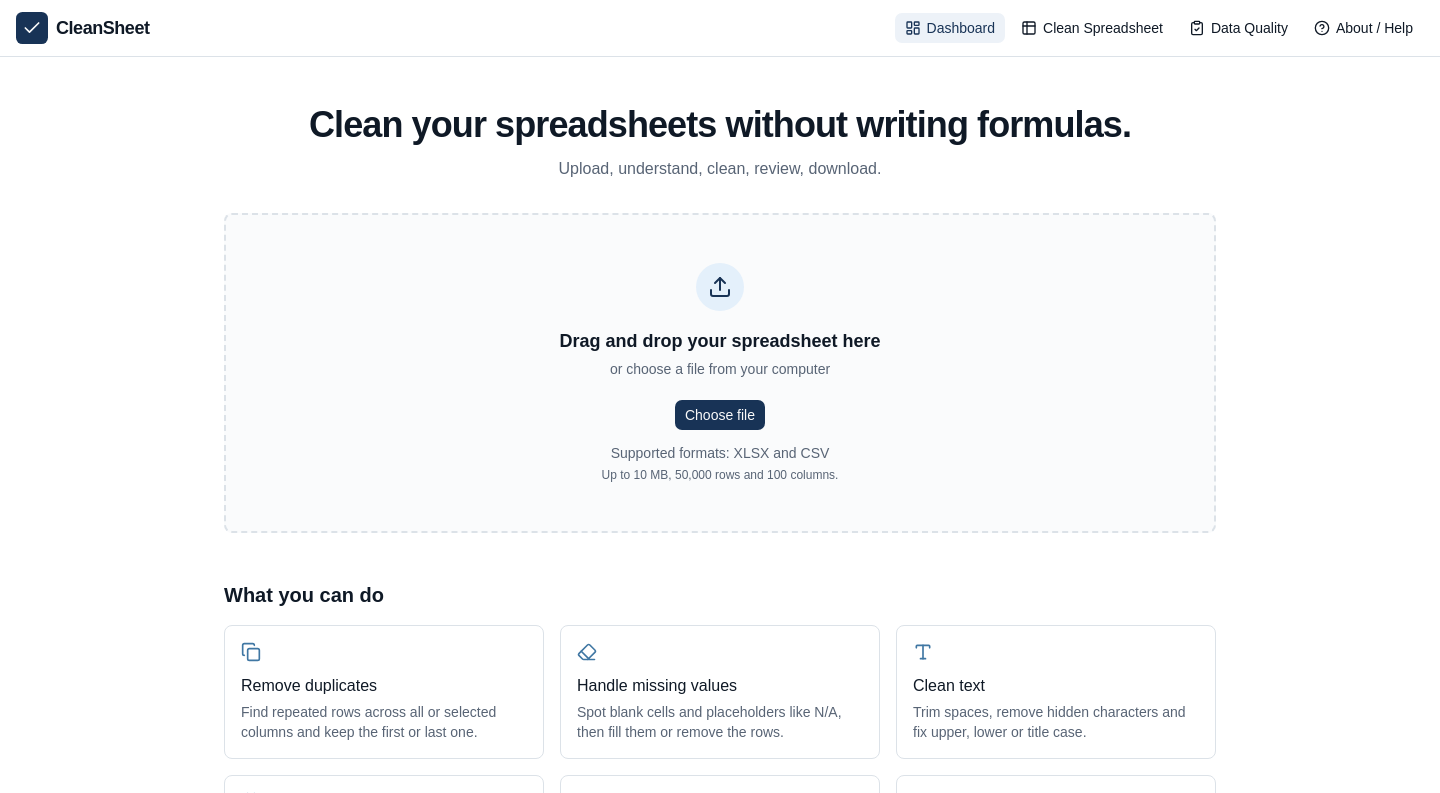
Test case: App navigation › navigates to Clean Spreadsheet
Click the button "Clean Spreadsheet": [1092, 28] box [1010, 12, 1174, 44]
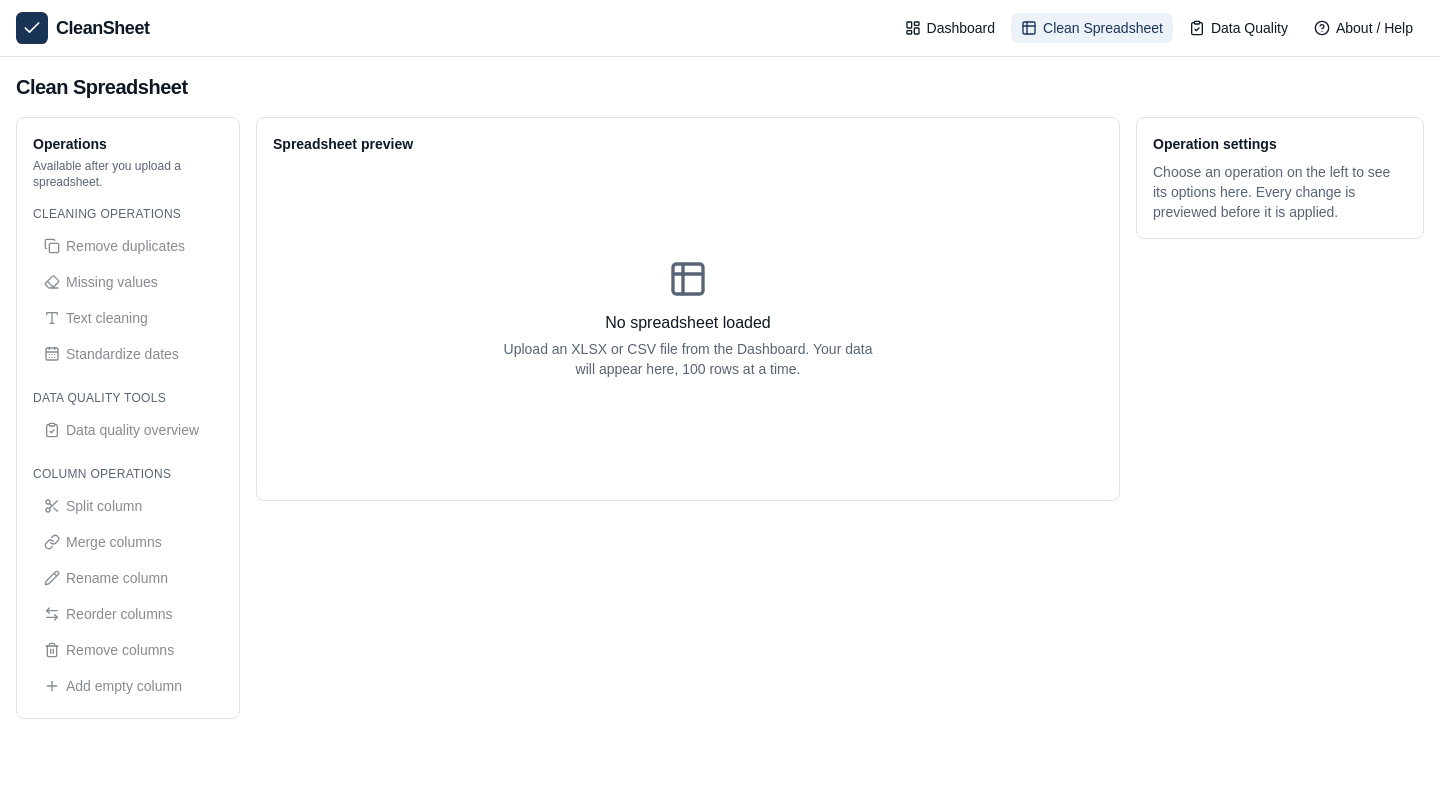
Result: the heading "Clean Spreadsheet" is shown at [16, 76, 188, 98]
